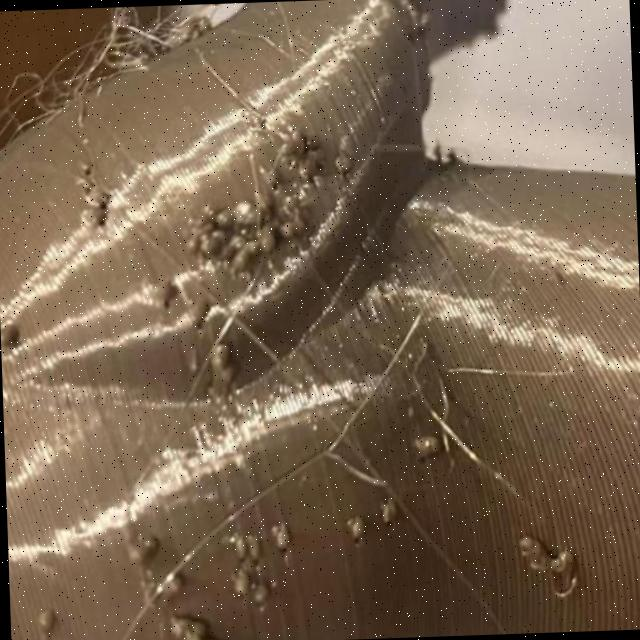blobs: (122, 534, 166, 570), (513, 536, 548, 576), (153, 569, 190, 602), (208, 364, 248, 394), (273, 125, 309, 158), (408, 432, 451, 458), (146, 278, 180, 310), (186, 296, 220, 328), (204, 339, 238, 371), (224, 242, 256, 274), (79, 182, 110, 213), (248, 227, 278, 258), (167, 614, 201, 640), (30, 603, 56, 637), (275, 191, 305, 220), (326, 153, 358, 180), (194, 232, 220, 265), (224, 196, 254, 224), (228, 568, 256, 597), (377, 498, 405, 526), (75, 208, 105, 234), (240, 534, 266, 564), (268, 522, 294, 550), (276, 222, 304, 246), (0, 324, 23, 352), (252, 579, 274, 601), (341, 518, 361, 542), (627, 394, 640, 428)
stringing: (86, 19, 154, 82), (13, 70, 84, 110), (149, 14, 196, 50)
